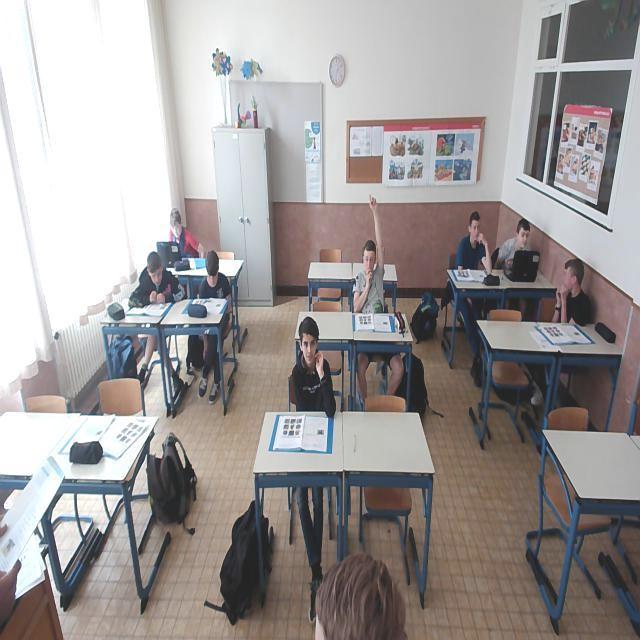Looking away: (204, 255, 221, 288), (518, 217, 531, 248), (171, 209, 184, 237), (469, 213, 481, 242)
Looking forward: (301, 316, 319, 363)
Raising hand: (351, 192, 392, 313)
Reading-writing: (128, 252, 185, 308)
Turning around: (550, 257, 593, 325)
